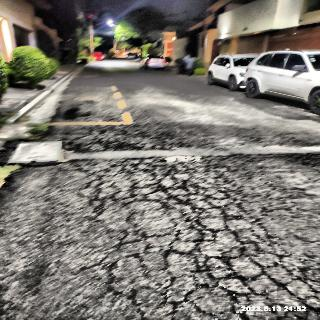alligator-crack: (63, 114, 317, 320)
